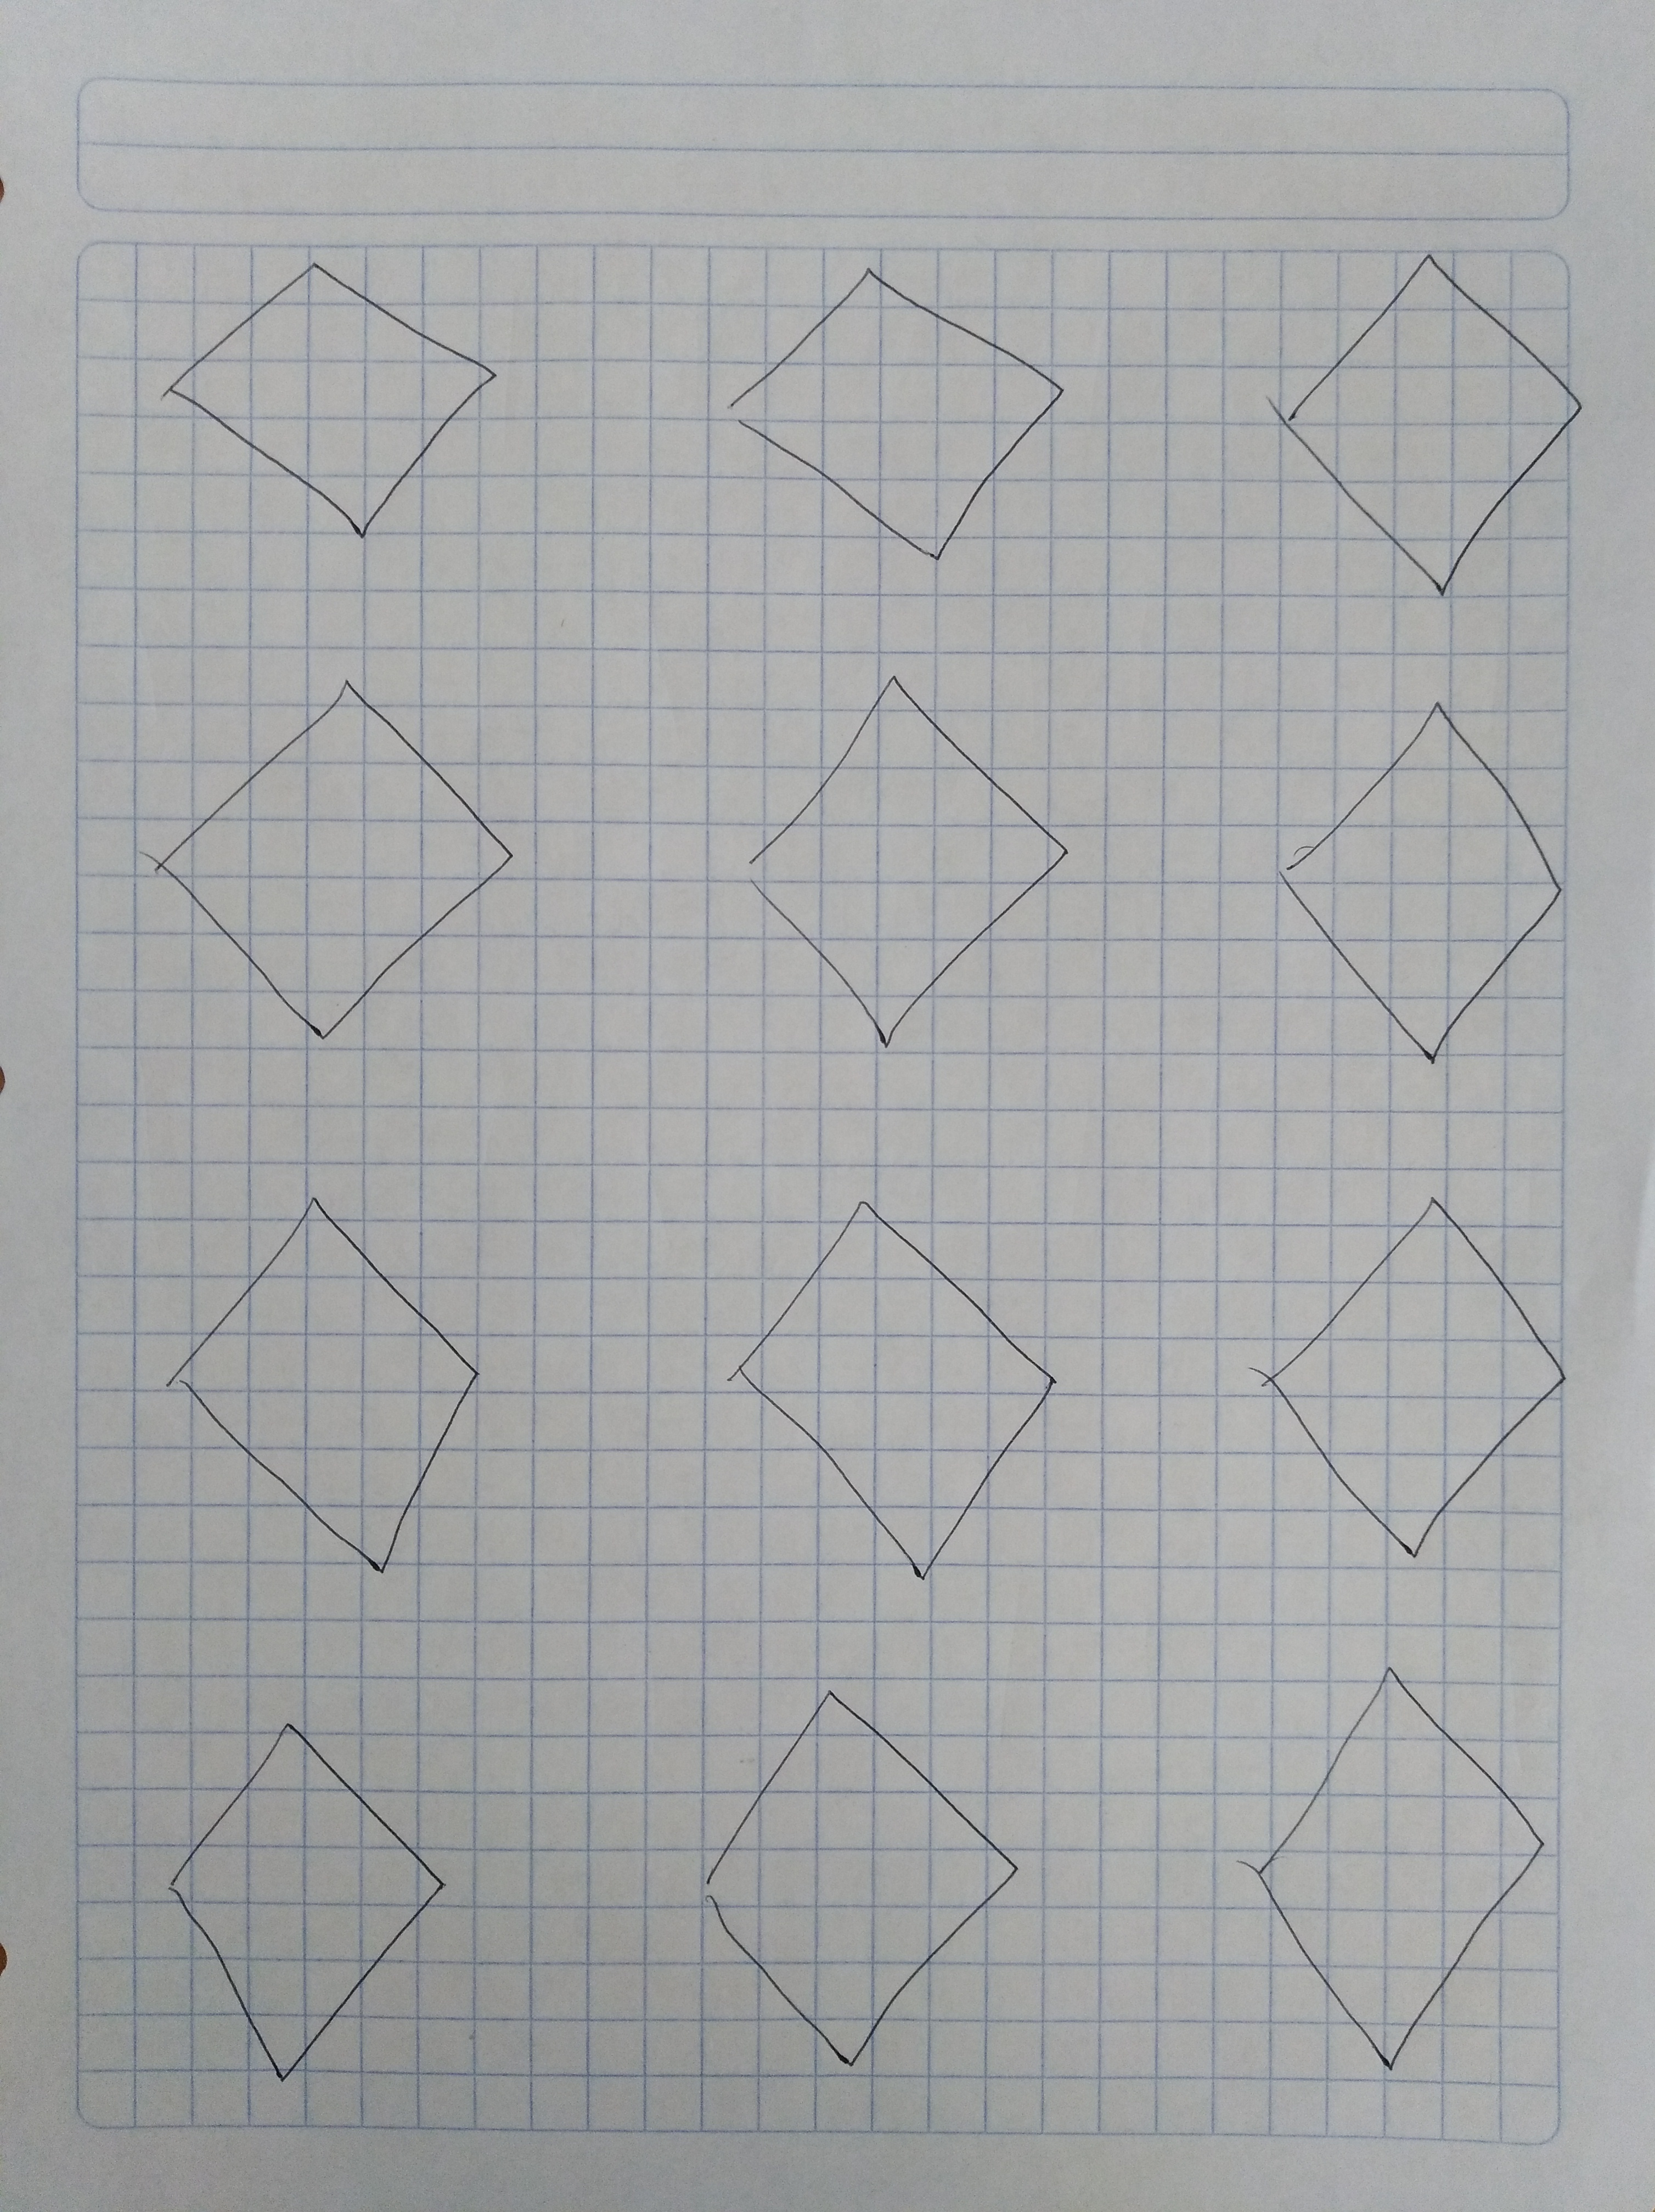decision: (122, 650, 565, 1067), (690, 1166, 1097, 1606), (704, 641, 1104, 1070), (1215, 1642, 1580, 2097), (139, 1171, 525, 1599), (669, 1656, 1027, 2089), (1234, 1161, 1587, 1588), (1243, 226, 1612, 620), (681, 238, 1095, 582), (1255, 662, 1589, 1088), (130, 1698, 471, 2106), (137, 245, 532, 556)
